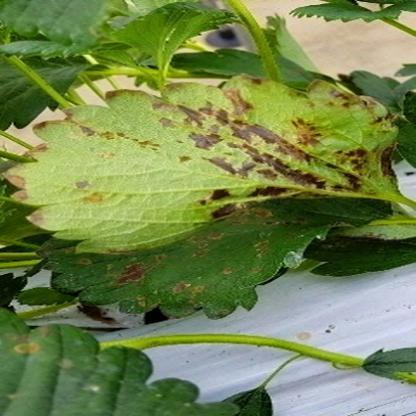Strawberry_Angular_LeafSpot: (1, 73, 404, 255), (32, 197, 396, 320)
